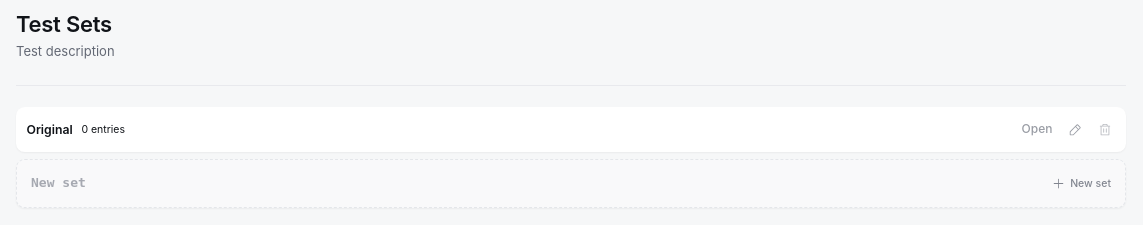
Test: SetManagementPage – rename › renames on Enter and updates the list
Click the button named "Rename set" at (1075, 130), box [1061, 116, 1089, 144]
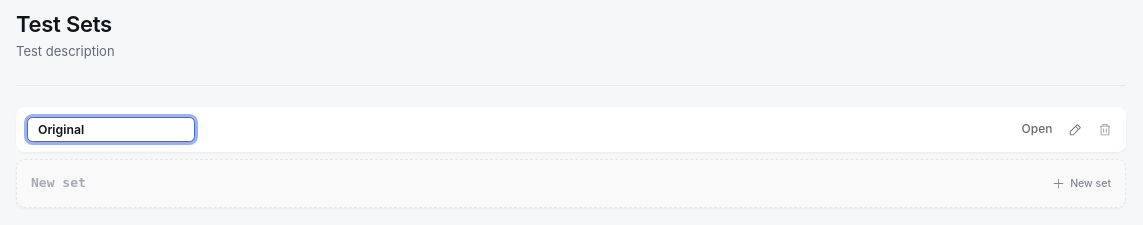
Replace the text in the field showing "Original" with "Renamed" at (110, 130), box [26, 117, 194, 142]
Then press Enter
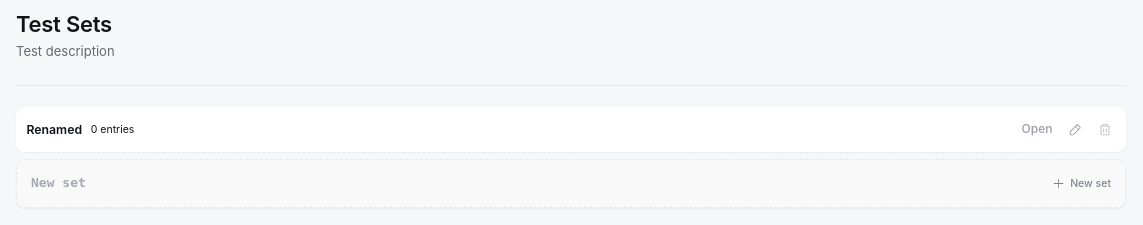
Check: the text "Renamed" is shown, box [26, 121, 82, 138]
